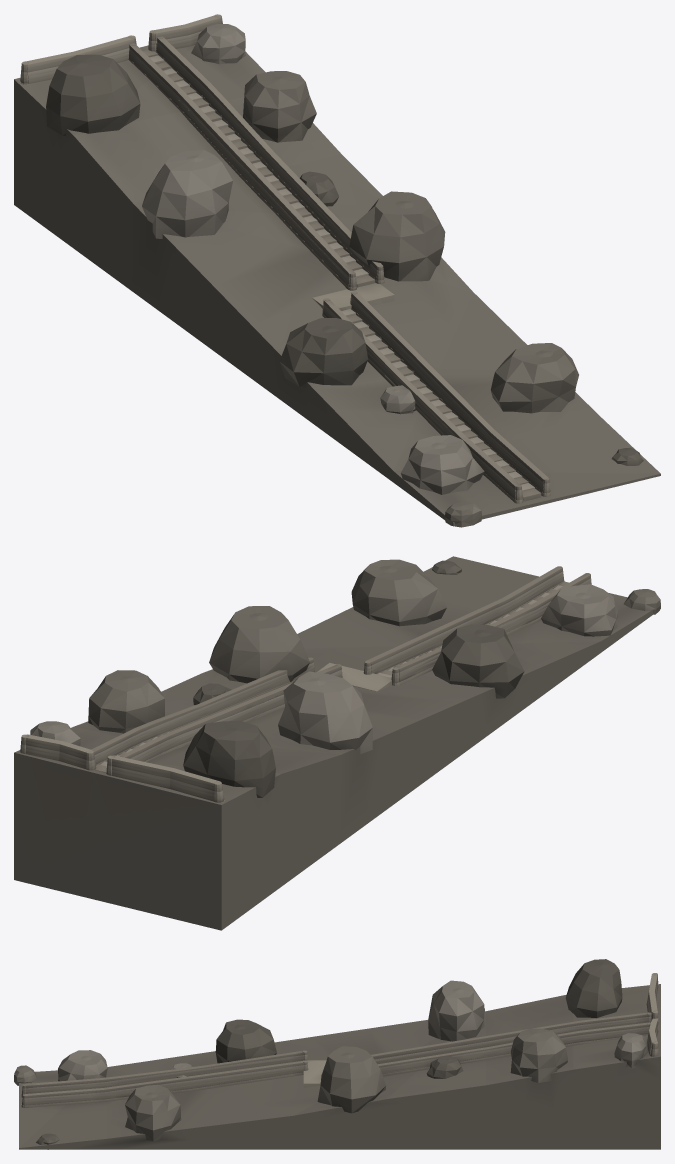
The model's file is hill-ascent.glb.
3 renders of one model, top to bottom at view 1: azimuth 30°, elevation 25°; view 2: azimuth 150°, elevation 25°; view 3: azimuth 270°, elevation 25°, orthographic. The views are drawn at different scales.
Parts seen in each view (by area): view 1: p0_slope, p2_walls, p1_steps; view 2: p0_slope, p2_walls, p1_steps; view 3: p0_slope, p2_walls, p1_steps.
Boxes of the visible parts, left/top/right/bottom form: p0_slope: left=14, top=24, right=660, bottom=527; p2_walls: left=20, top=14, right=550, bottom=503; p1_steps: left=143, top=50, right=541, bottom=501; p0_slope: left=14, top=556, right=660, bottom=930; p2_walls: left=20, top=566, right=591, bottom=802; p1_steps: left=95, top=581, right=568, bottom=772; p0_slope: left=14, top=959, right=660, bottom=1149; p2_walls: left=21, top=973, right=658, bottom=1107; p1_steps: left=303, top=1060, right=326, bottom=1087.
Size of the model in its own units: 33.4 by 22.75 by 111.
